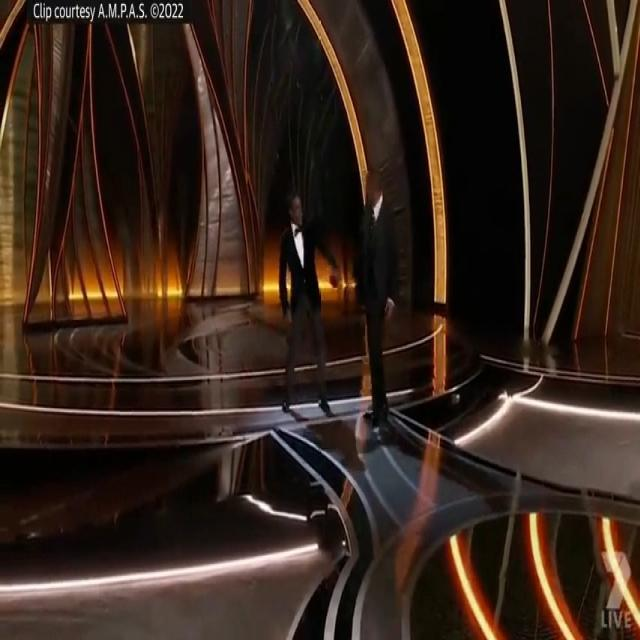fight: (261, 152, 412, 446)
